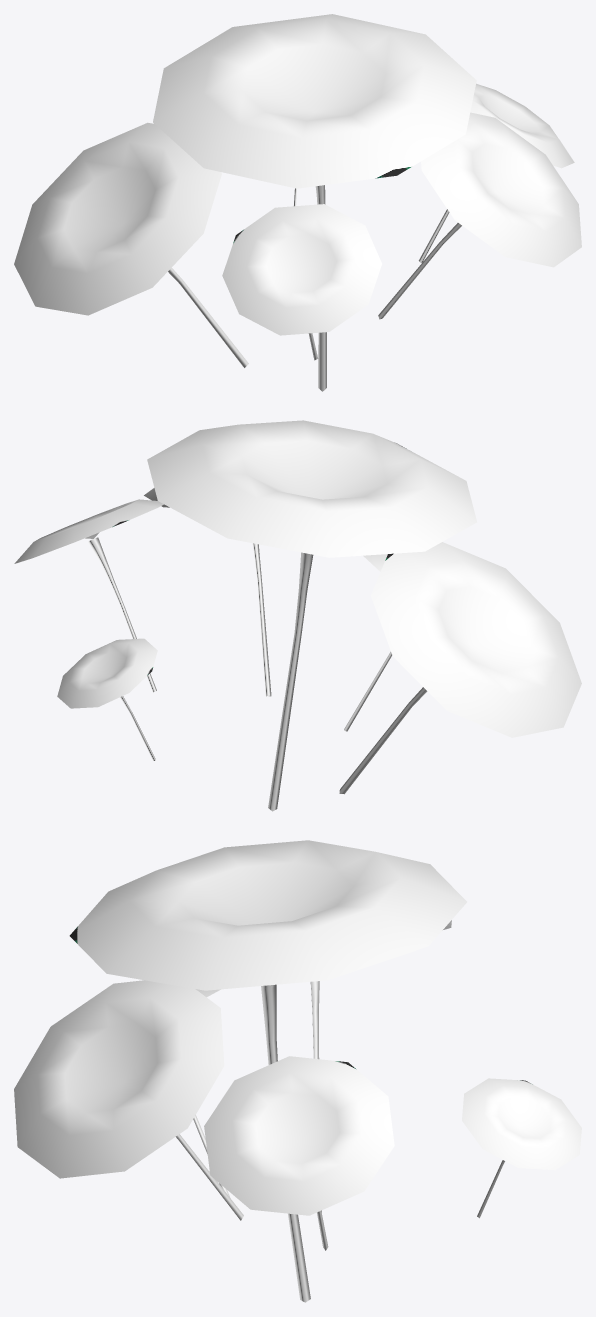
The model's file is Gunnera.obj.
3 renders of one model, top to bottom at view 1: azimuth 30°, elevation 25°; view 2: azimuth 150°, elevation 25°; view 3: azimuth 270°, elevation 25°, orthographic. The views are drawn at different scales.
Parts seen in each view (by area): view 1: pCylinder29; view 2: pCylinder29; view 3: pCylinder29.
Boxes of the visible parts, bbox=[...] form: pCylinder29: bbox=[14, 14, 581, 391]; pCylinder29: bbox=[14, 420, 581, 811]; pCylinder29: bbox=[14, 840, 581, 1302].
Size of the model in its own units: 6.66 by 4.14 by 5.17.
1 material, 1 textured.
